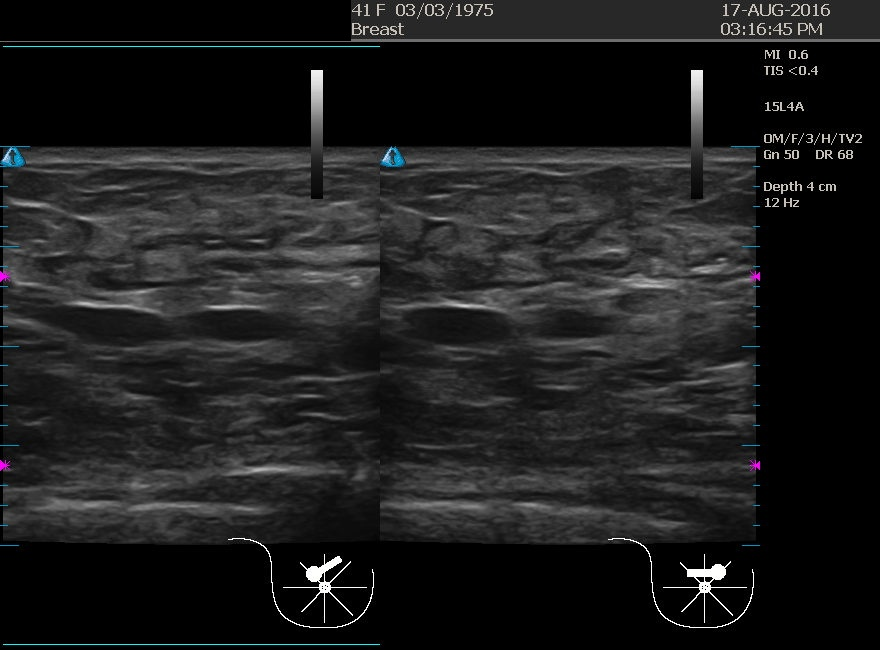BIRADS_3: (18, 267, 218, 467), (386, 190, 586, 390)
